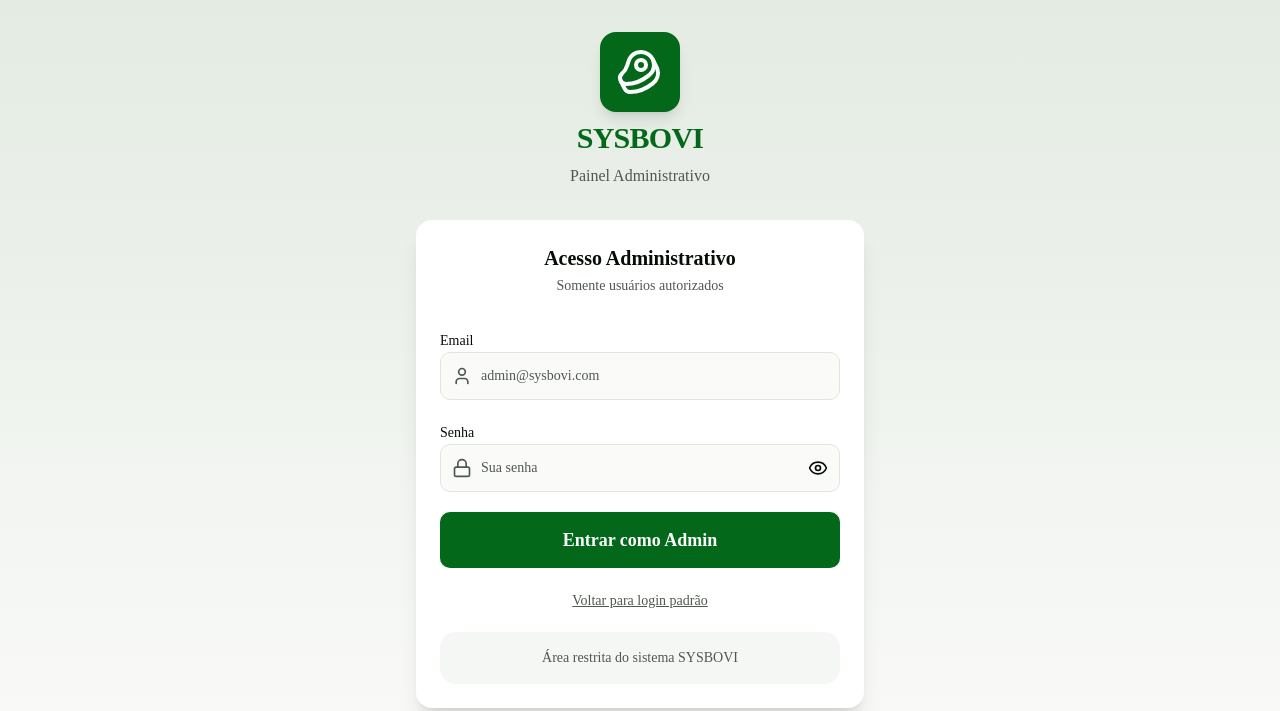
AdminLoginPage — validação de formulário › exibe erros em ambos os campos ao submeter formulário vazio
Click the button "Entrar como Admin" at (640, 540), box [440,512,840,568]
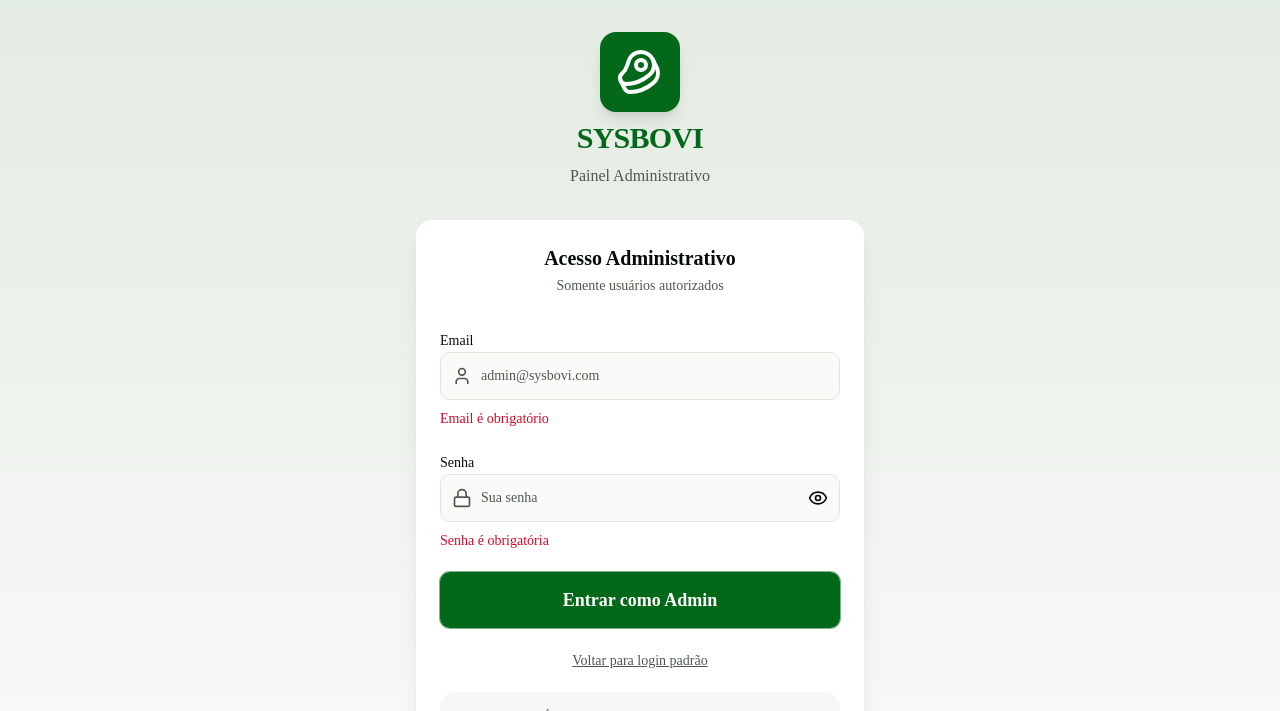
Result: the text "Email é obrigatório" is shown at [440,411,549,426]
Result: the text "Senha é obrigatória" is shown at [440,533,549,548]
